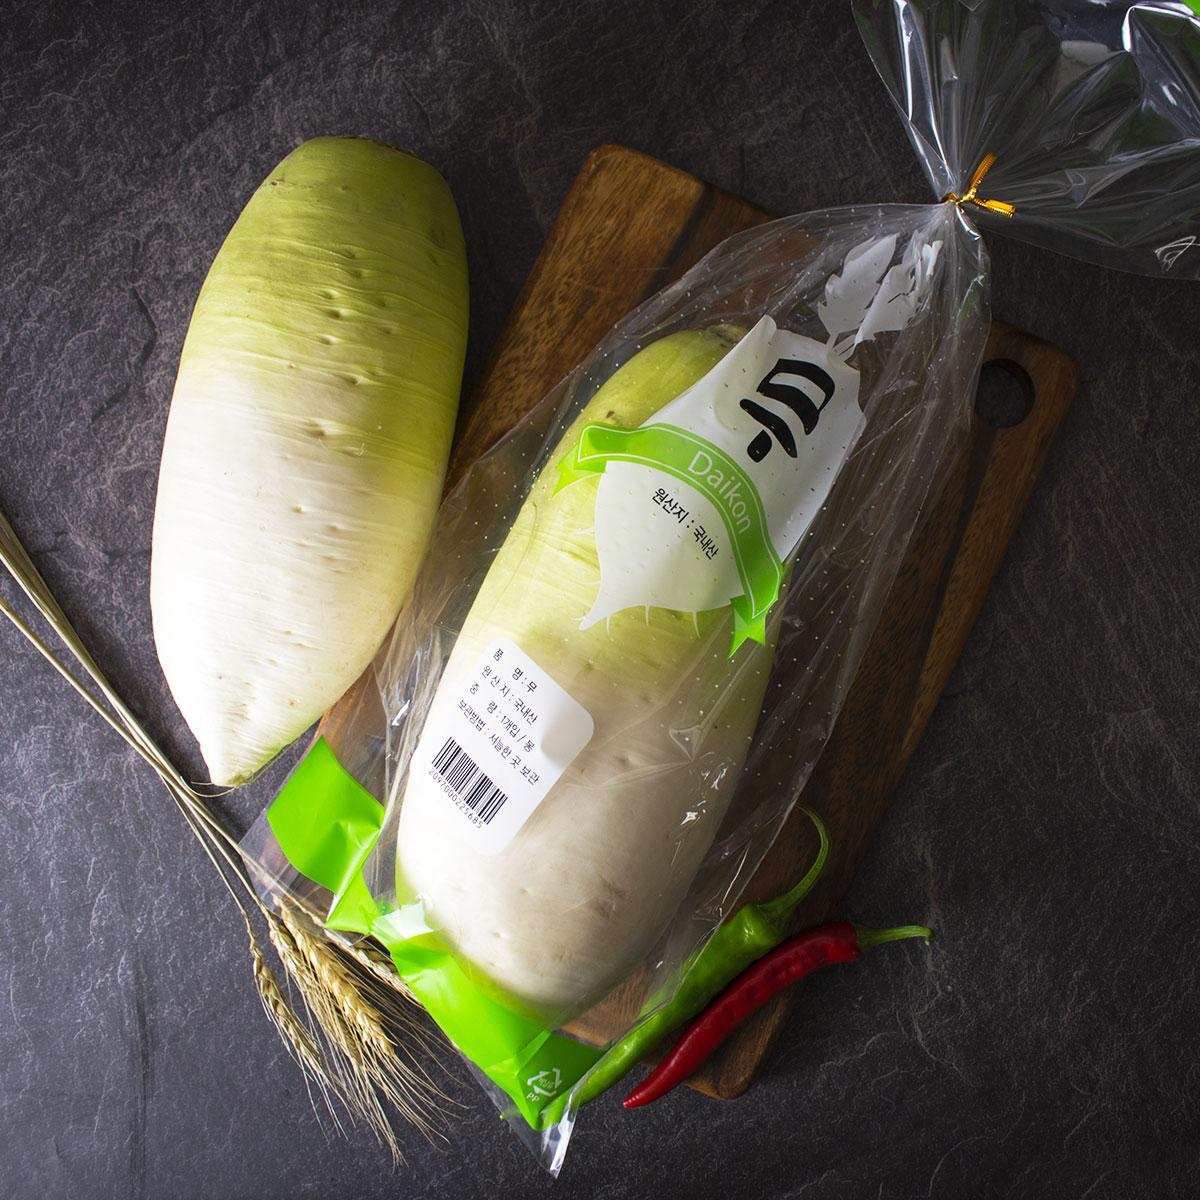radish: (310, 329, 863, 1200)
